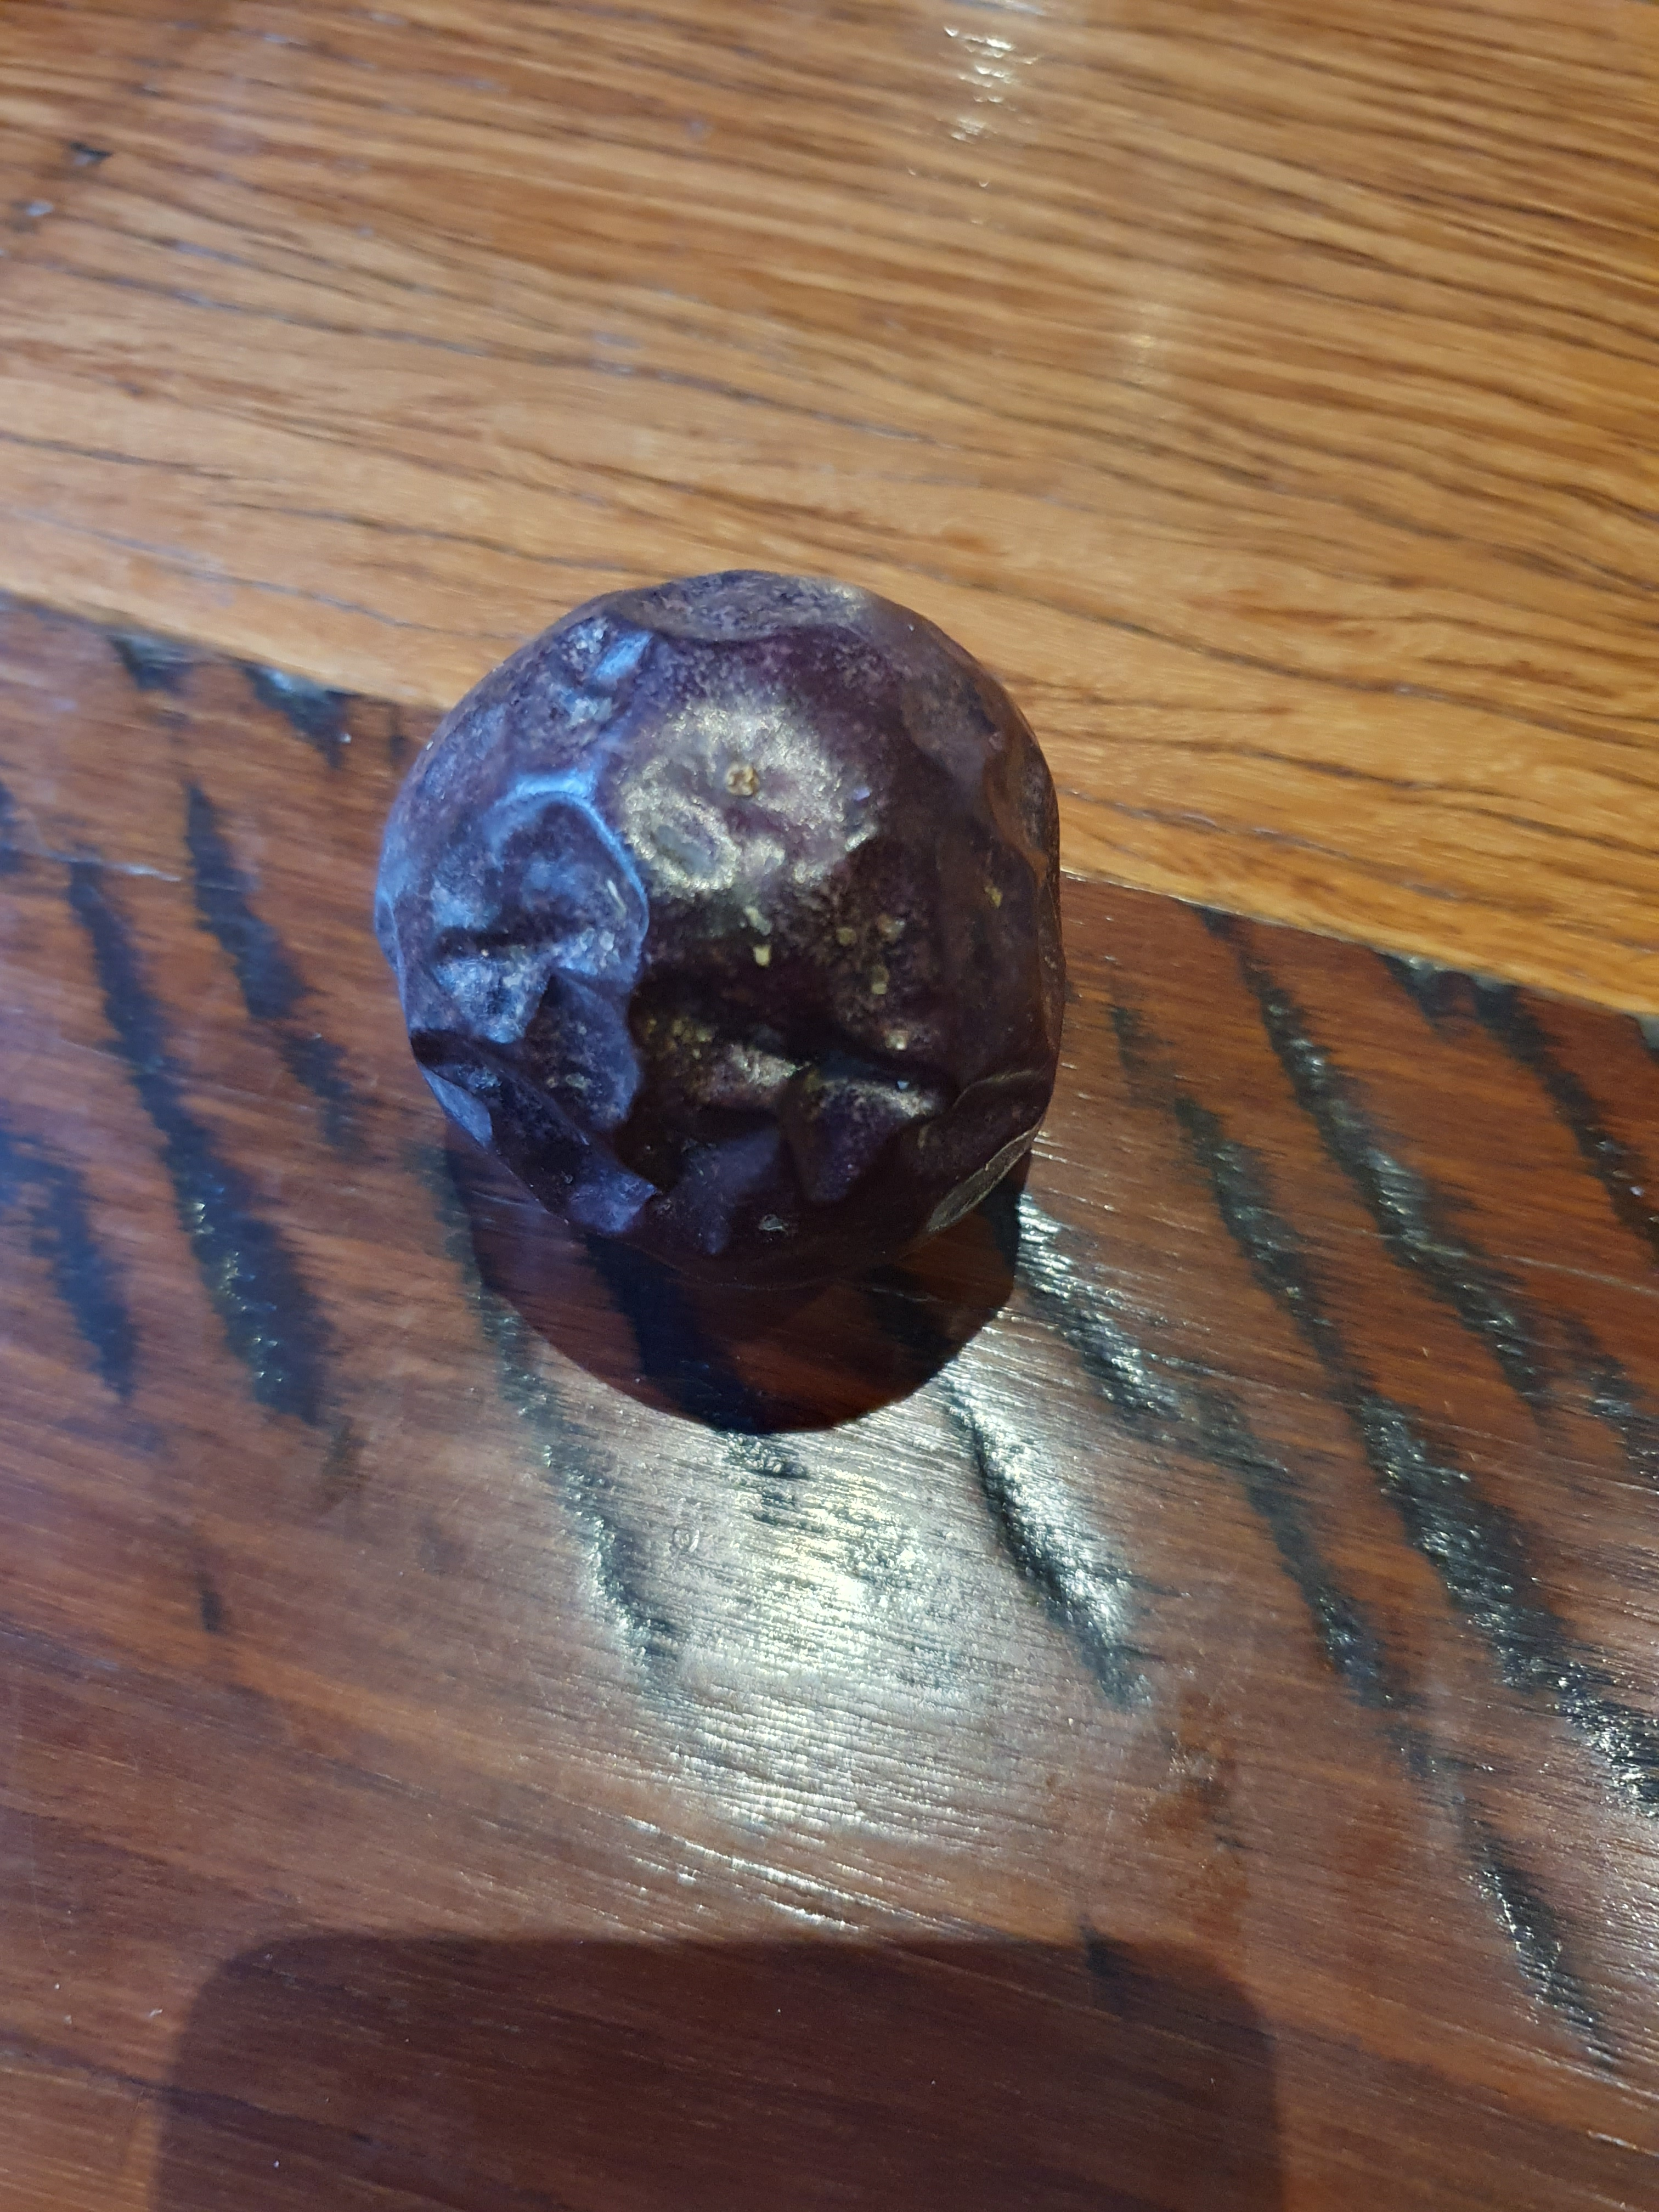passionfruit: (349, 517, 1082, 1310)
